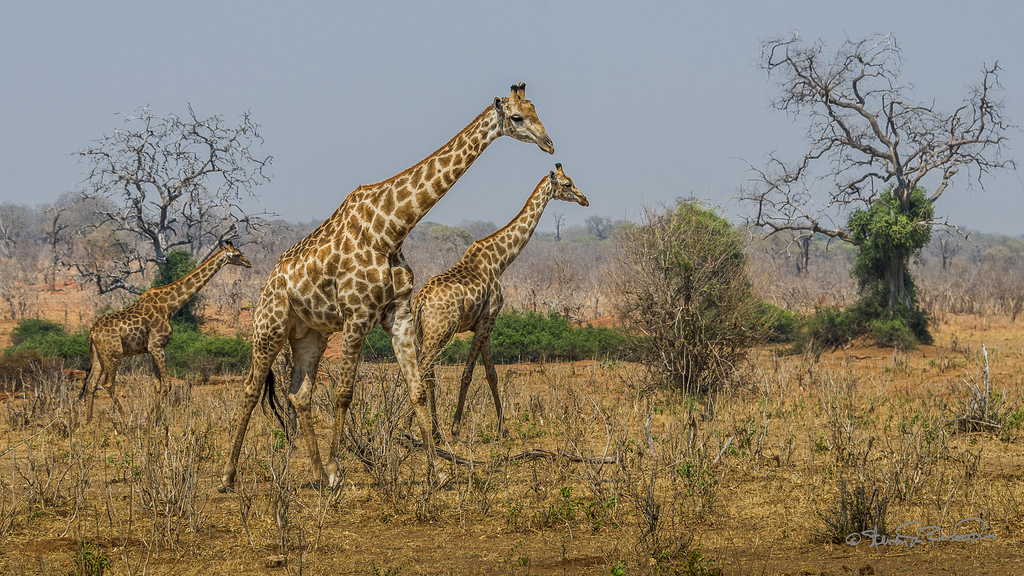giraffe: (222, 69, 553, 491), (399, 142, 595, 499), (47, 223, 253, 434)
